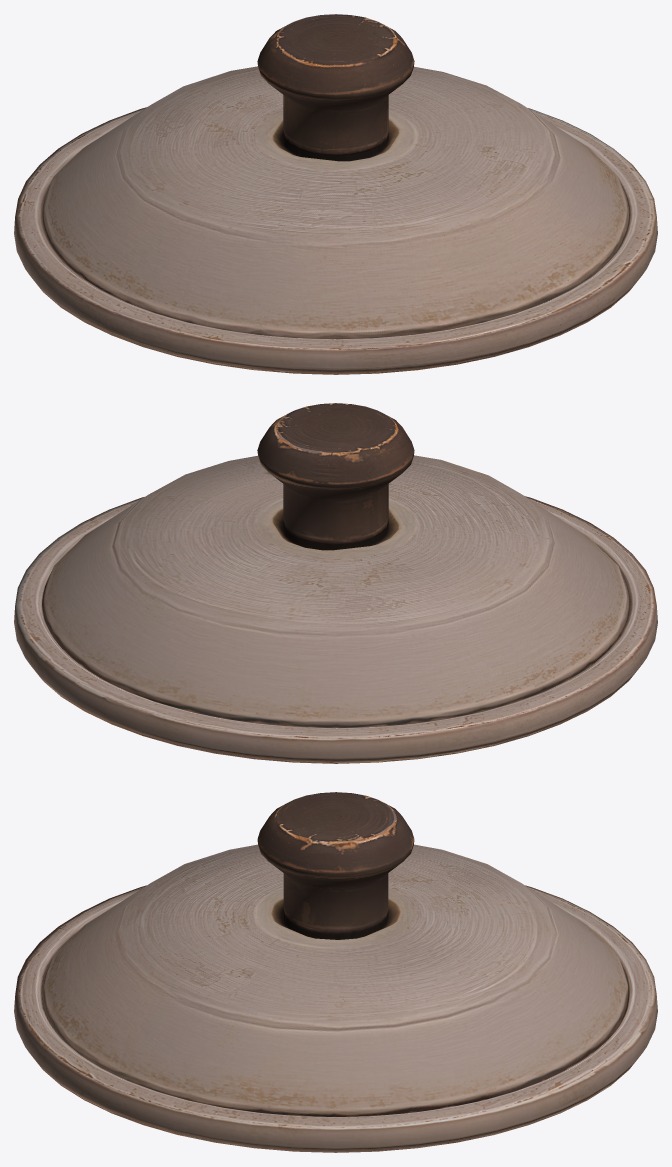
File: P23_pot_lid_Runtime_1k.glb
3 renders of one model, top to bottom at view 1: azimuth 30°, elevation 25°; view 2: azimuth 150°, elevation 25°; view 3: azimuth 270°, elevation 25°, orthographic.
Parts seen in each view (by area): view 1: tripo_node_555afa1b; view 2: tripo_node_555afa1b; view 3: tripo_node_555afa1b.
Part boxes in pixels (<box>): tripo_node_555afa1b: <box>14,14,657,374</box>; tripo_node_555afa1b: <box>14,403,657,763</box>; tripo_node_555afa1b: <box>14,792,657,1152</box>.
Bounding box in the file's own units: 0.304 × 0.1059 × 0.304.
Materials: 1 (1 with a texture image).
